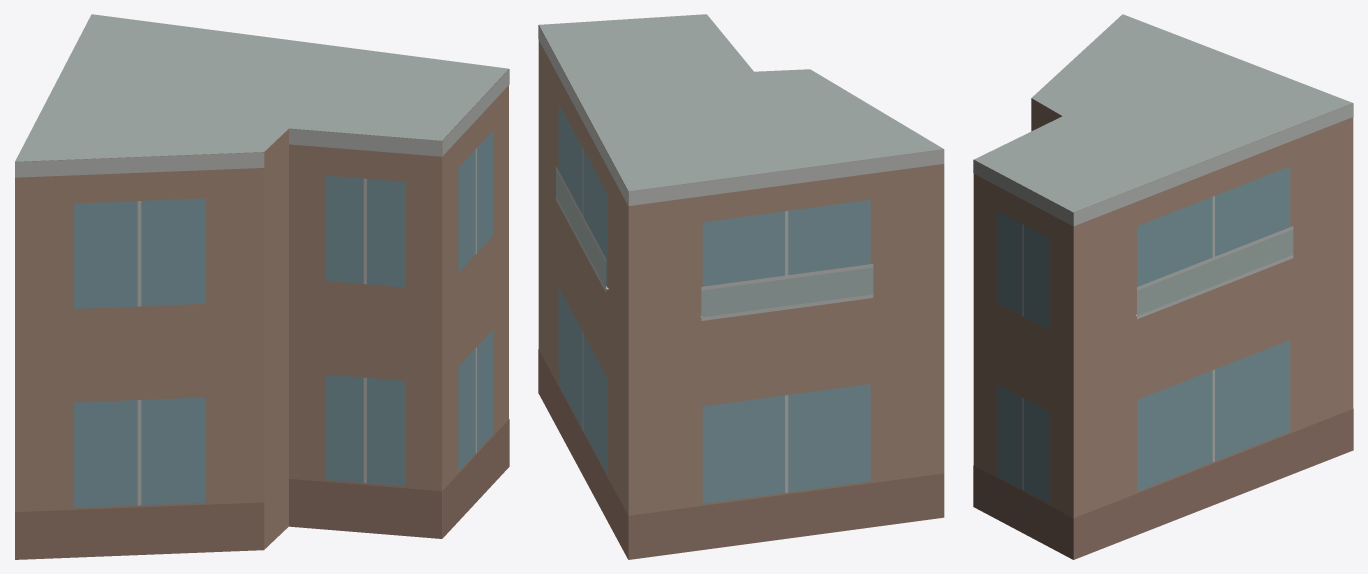
Rendered from survey-upis-32999952.glb.
The picture shows the model from 3 angles, left to right: view 1: azimuth 30°, elevation 25°; view 2: azimuth 150°, elevation 25°; view 3: azimuth 270°, elevation 25°; orthographic projection. The views are drawn at different scales.
Parts seen in each view (by area): view 1: survey-upis-32999952.tmp; view 2: survey-upis-32999952.tmp; view 3: survey-upis-32999952.tmp.
Boxes of the visible parts, <box> form: survey-upis-32999952.tmp: <box>15,14,509,559</box>; survey-upis-32999952.tmp: <box>538,14,944,559</box>; survey-upis-32999952.tmp: <box>973,14,1353,559</box>.
Size of the model in its own units: 7.49 by 6.1 by 6.05.
